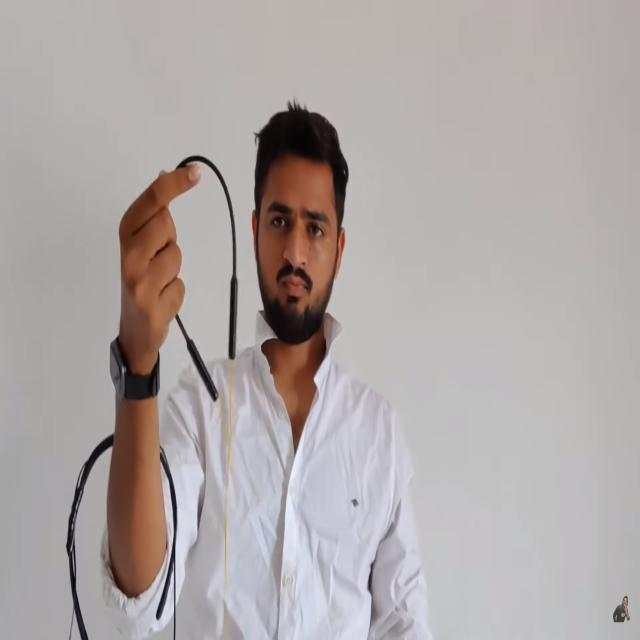Neckband: (174, 154, 238, 640), (65, 428, 177, 640)
